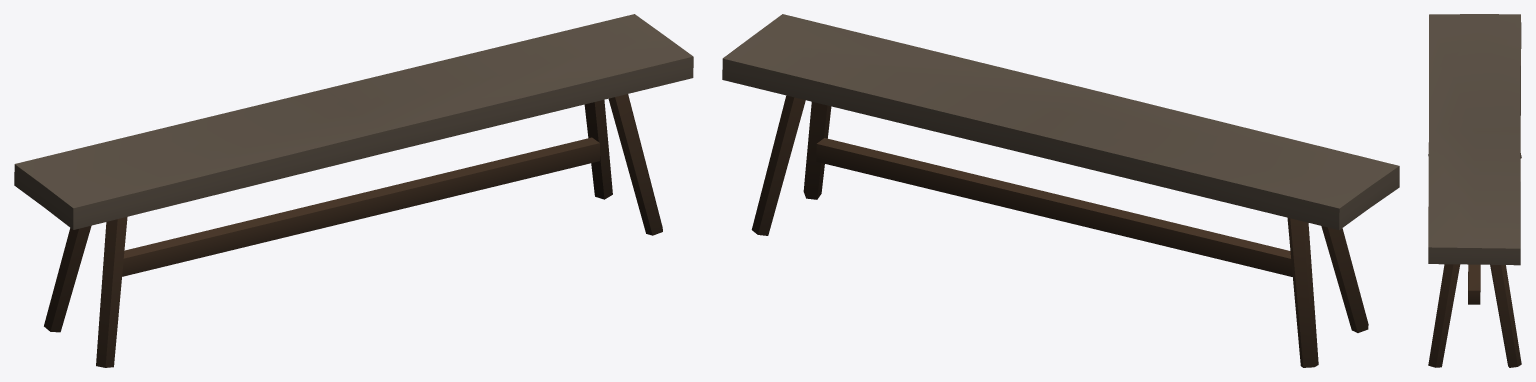
The model's file is ph_int_pew_rough.glb.
The picture shows the model from 3 angles, left to right: view 1: azimuth 30°, elevation 25°; view 2: azimuth 150°, elevation 25°; view 3: azimuth 270°, elevation 25°; orthographic projection. The views are drawn at different scales.
Visible parts, largest first — view 1: ph_int_pew_rough; view 2: ph_int_pew_rough; view 3: ph_int_pew_rough.
Part boxes in pixels (x1,y1,x2,y2): ph_int_pew_rough: [14, 14, 693, 367]; ph_int_pew_rough: [722, 14, 1399, 367]; ph_int_pew_rough: [1428, 14, 1521, 367].
Bounding box in the file's own units: 1.8 × 0.4778 × 0.3046.
